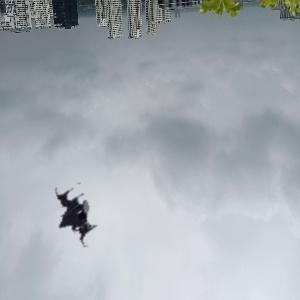drone: (38, 177, 116, 255)
